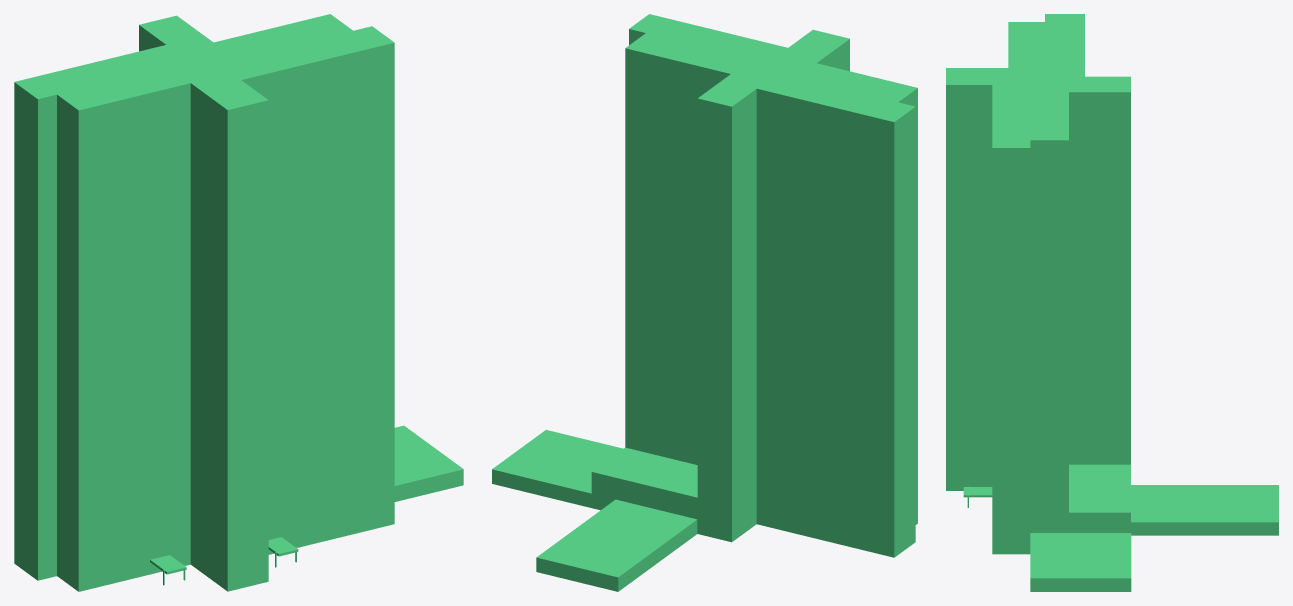
File: SVRLD.obj
3 views of the same model, side by side, from view 1: azimuth 30°, elevation 25°; view 2: azimuth 150°, elevation 25°; view 3: azimuth 270°, elevation 25° (orthographic). The views are drawn at different scales.
Visible parts, largest first — view 1: Rectangle003; view 2: Rectangle003; view 3: Rectangle003.
Boxes of the visible parts, x1,y1,x2,y2 form: Rectangle003: [14, 14, 463, 591]; Rectangle003: [492, 14, 917, 591]; Rectangle003: [946, 14, 1278, 591].
Bounding box in the file's own units: 54.42 × 60 × 44.58.
